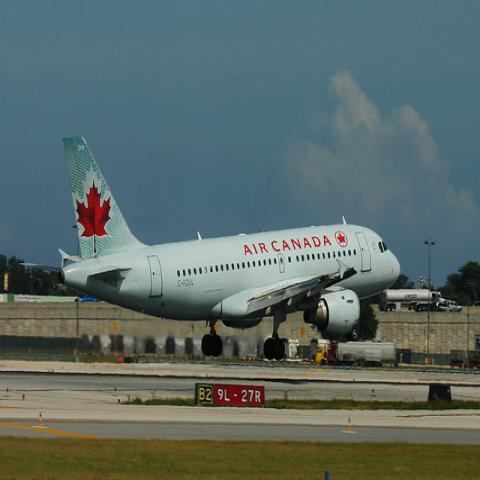car: (470, 301, 480, 307)
truck: (315, 342, 397, 368), (386, 290, 449, 312), (446, 300, 463, 313)
